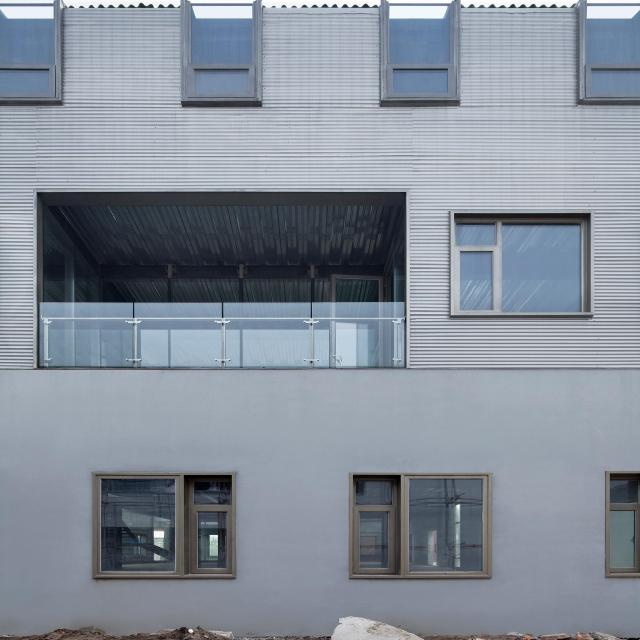railing: (38, 299, 406, 367)
window: (91, 472, 236, 580), (349, 472, 494, 580), (448, 207, 592, 315), (114, 267, 390, 301), (387, 17, 449, 96), (387, 17, 449, 96), (187, 17, 249, 96), (604, 473, 640, 579), (590, 19, 640, 95), (0, 18, 50, 94)
